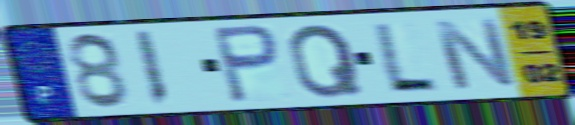8: (65, 30, 130, 112)
I: (131, 28, 173, 109)
L: (370, 20, 442, 93)
N: (428, 16, 521, 93)
P: (209, 23, 283, 106)
Q: (286, 22, 367, 101)
